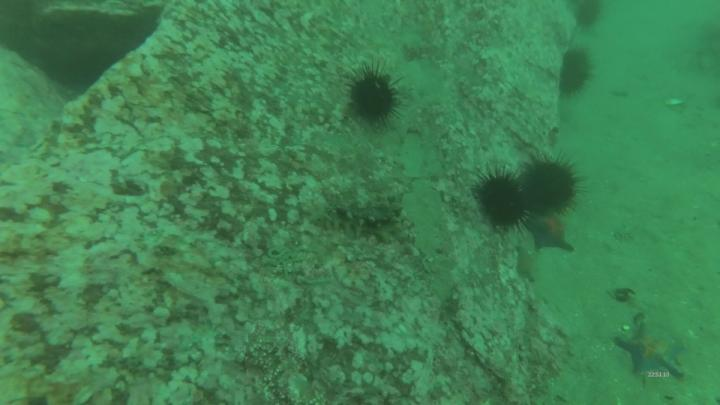echinus: (521, 151, 587, 218), (345, 60, 406, 131), (472, 165, 529, 237), (561, 45, 600, 101), (576, 1, 602, 32)
holothurian: (309, 190, 407, 245)
starfish: (611, 318, 692, 386), (525, 213, 581, 256)
